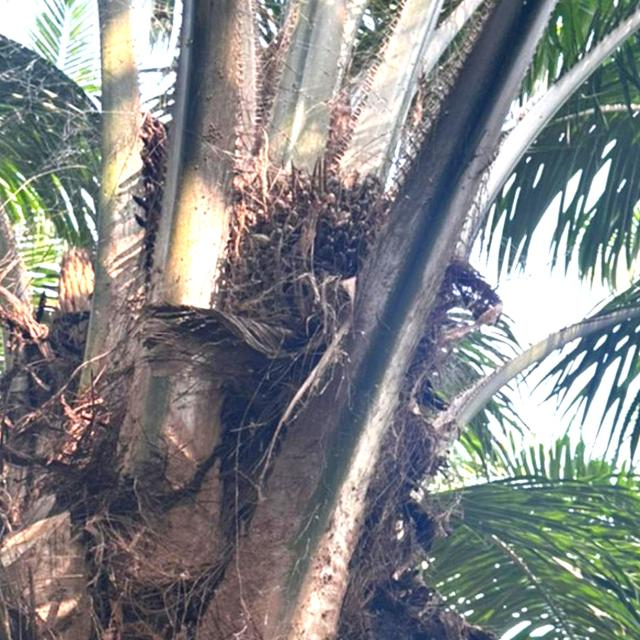unripe: (223, 168, 460, 420)
